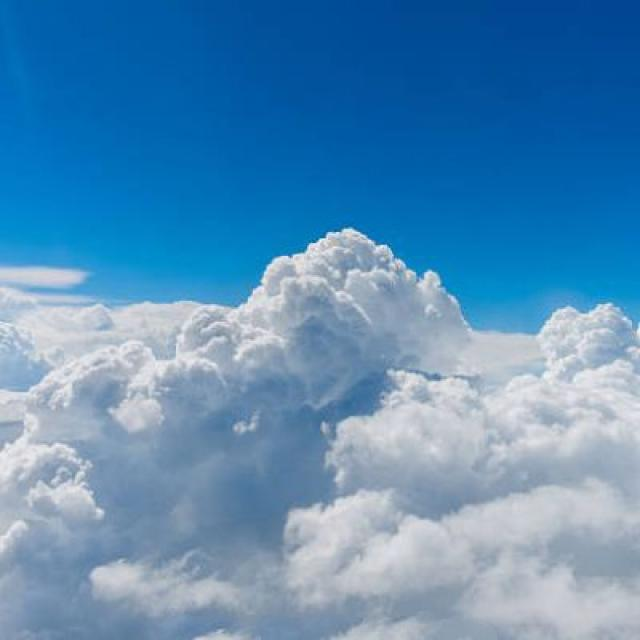Cu: (28, 201, 640, 535)
